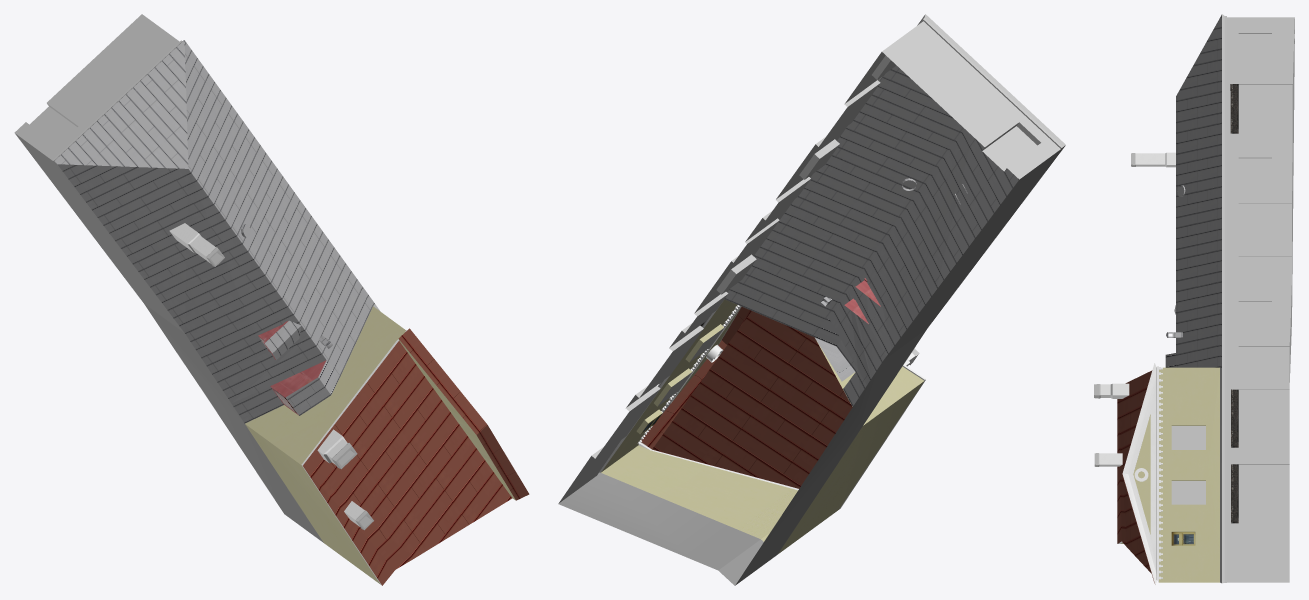
Rendered from Kiriku_6_2.obj.
3 renders of one model, left to right at view 1: azimuth 30°, elevation 25°; view 2: azimuth 150°, elevation 25°; view 3: azimuth 270°, elevation 25°, orthographic. The views are drawn at different scales.
Visible parts, largest first — view 1: Kiriku_6_2; view 2: Kiriku_6_2; view 3: Kiriku_6_2.
Boxes of the visible parts, x1,y1,x2,y2 form: Kiriku_6_2: (14, 14, 529, 585); Kiriku_6_2: (558, 14, 1065, 585); Kiriku_6_2: (1094, 14, 1294, 585).
Bounding box in the file's own units: 21.1 × 24.72 × 9.56.
